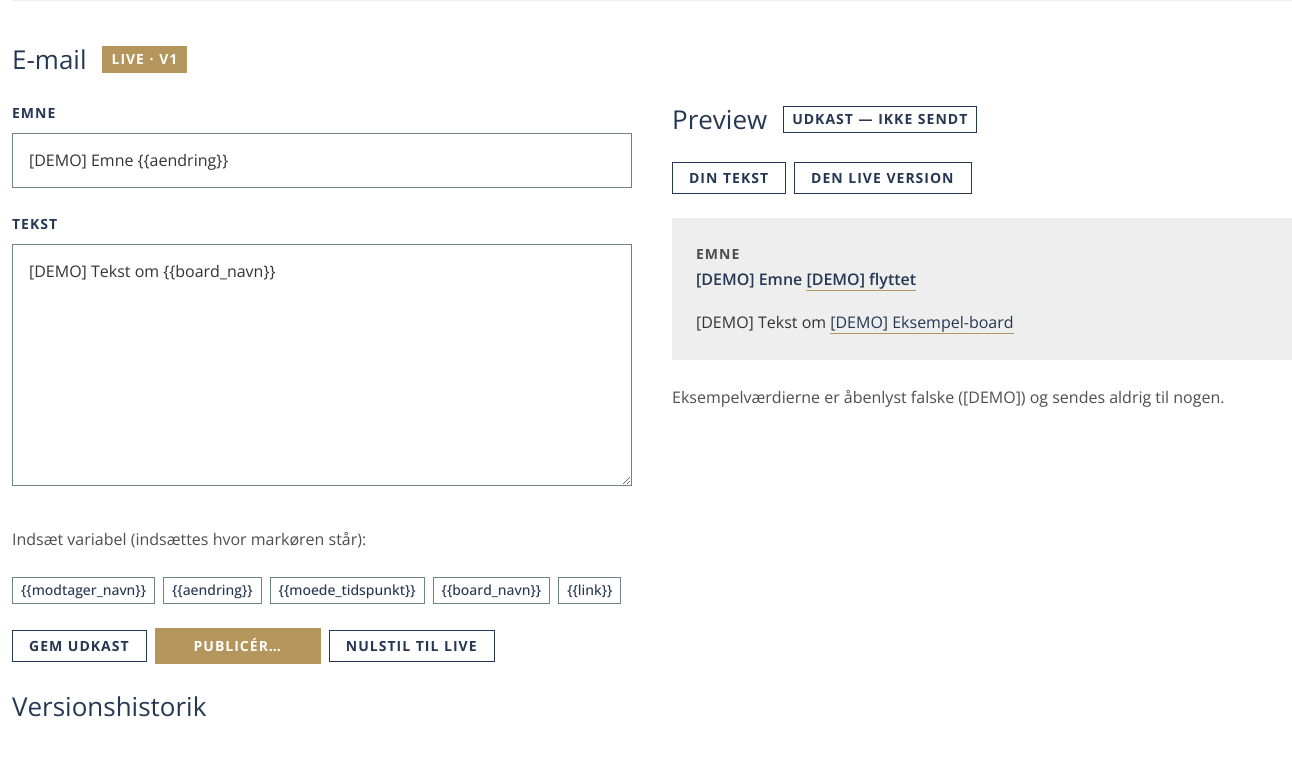
Test: TemplateEditor — live preview (eksplicit krav) › kan skifte mellem preview af din tekst og af den live version
Replace the text in the text box labelled "Tekst" with "[DEMO] Udkasttekst" at (322,365), box [12,244,632,486]
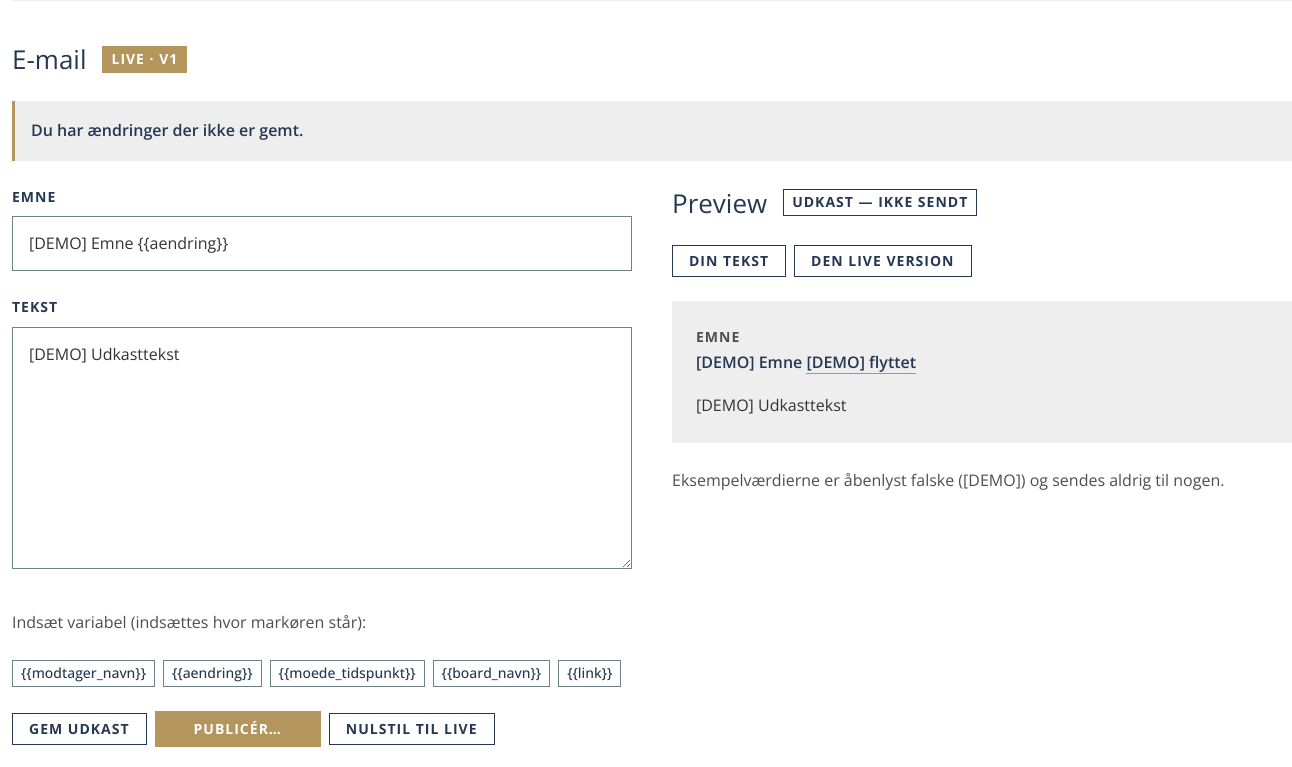
Expected: the element that starts with "E-mail" shows "Udkast — ikke sendt", [792,192,968,211]
Expected: the element showing "[DEMO] Udkasttekst" is shown, [696,394,846,416]
Click the button "Den live version" at (883,261), box [794,245,972,277]
(page scrolled)
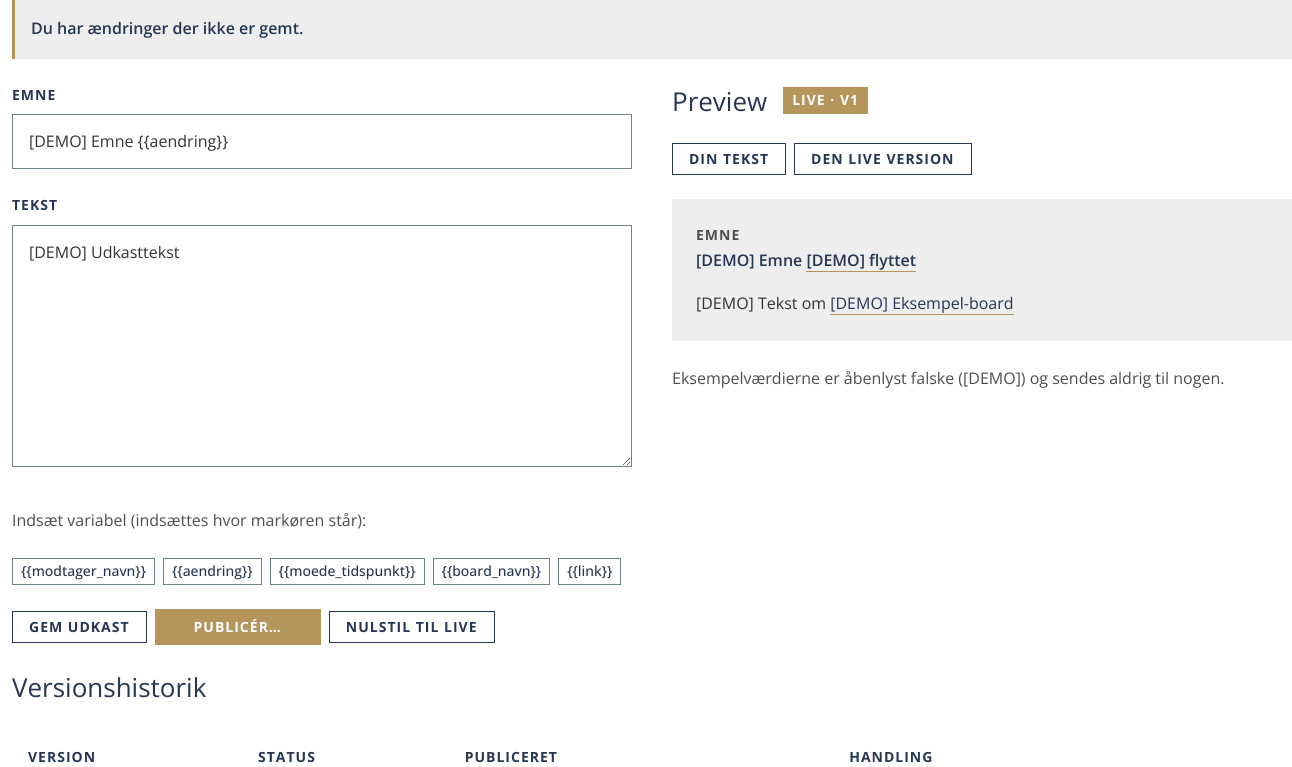
Expected: the element showing "[DEMO] Tekst om [DEMO] Eksempel-board" is shown, [696,292,1014,315]
